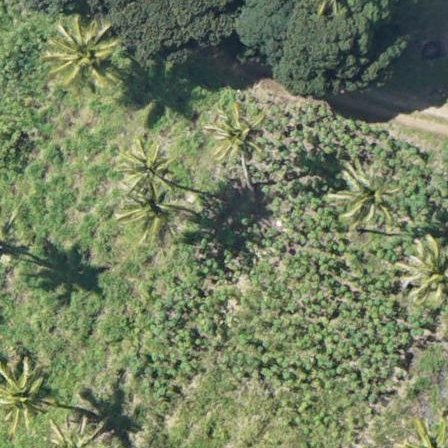palm_tree: (42, 15, 118, 93), (112, 135, 180, 207), (330, 163, 396, 227), (1, 358, 52, 433), (115, 189, 178, 249), (204, 102, 264, 165), (400, 235, 448, 308)
